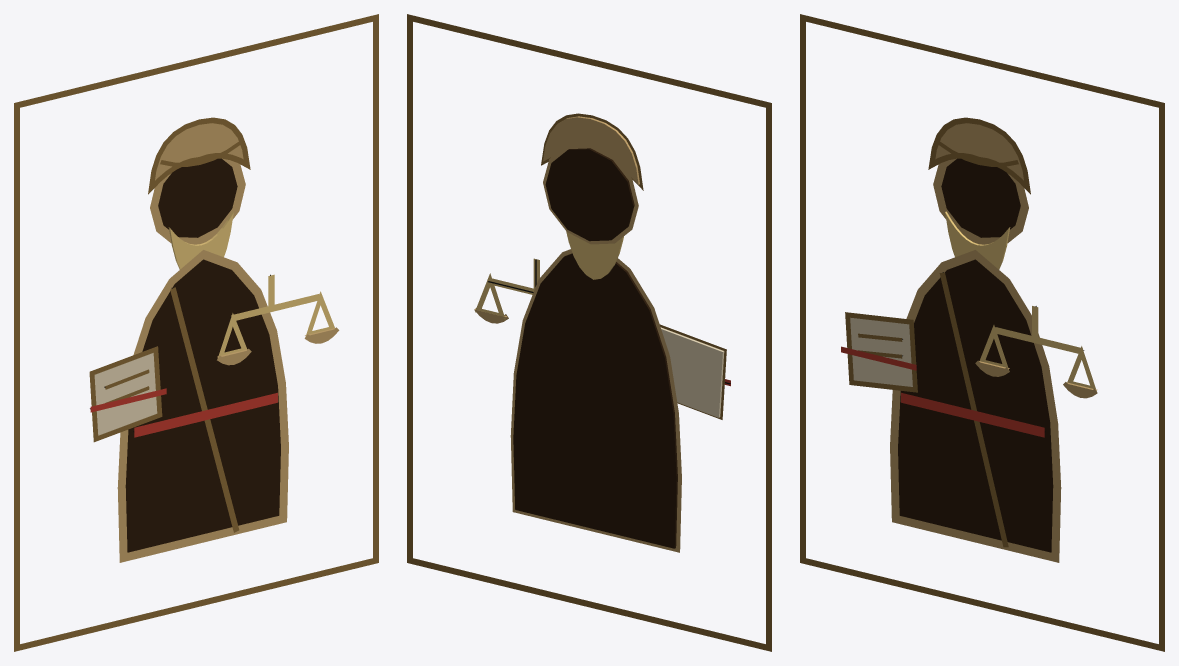
File: npc-kupets-b.glb
3 renders of one model, left to right at view 1: azimuth 30°, elevation 25°; view 2: azimuth 150°, elevation 25°; view 3: azimuth 330°, elevation 25°, orthographic.
Parts seen in each view (by area): view 1: npc-kupets-b; view 2: npc-kupets-b; view 3: npc-kupets-b.
Boxes of the visible parts, x1,y1,x2,y2 form: npc-kupets-b: (14, 14, 378, 651); npc-kupets-b: (407, 14, 771, 651); npc-kupets-b: (800, 14, 1164, 651).
Bounding box in the file's own units: 1.14 × 1.64 × 0.0979.
